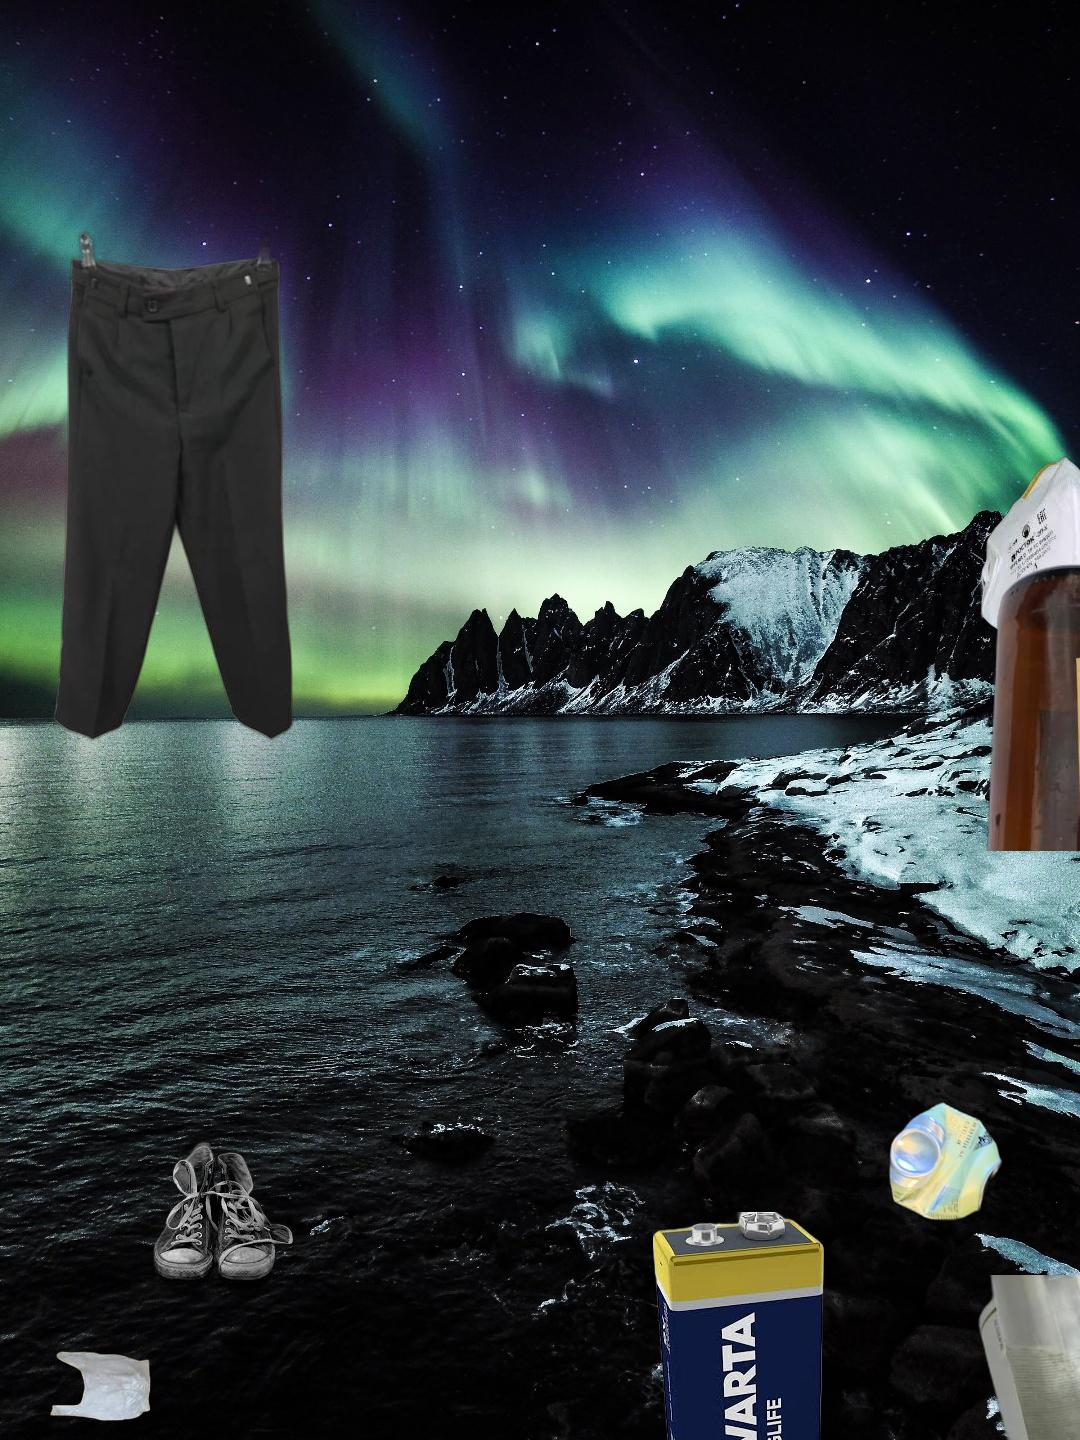battery: (653, 1212, 824, 1440)
clothes: (31, 228, 301, 744)
glass: (982, 564, 1080, 852), (973, 1274, 1080, 1440)
metal-cans: (884, 1096, 1006, 1227)
plastic-bag: (47, 1348, 152, 1424)
shoes: (150, 1140, 296, 1306)
trash: (977, 454, 1080, 664)
